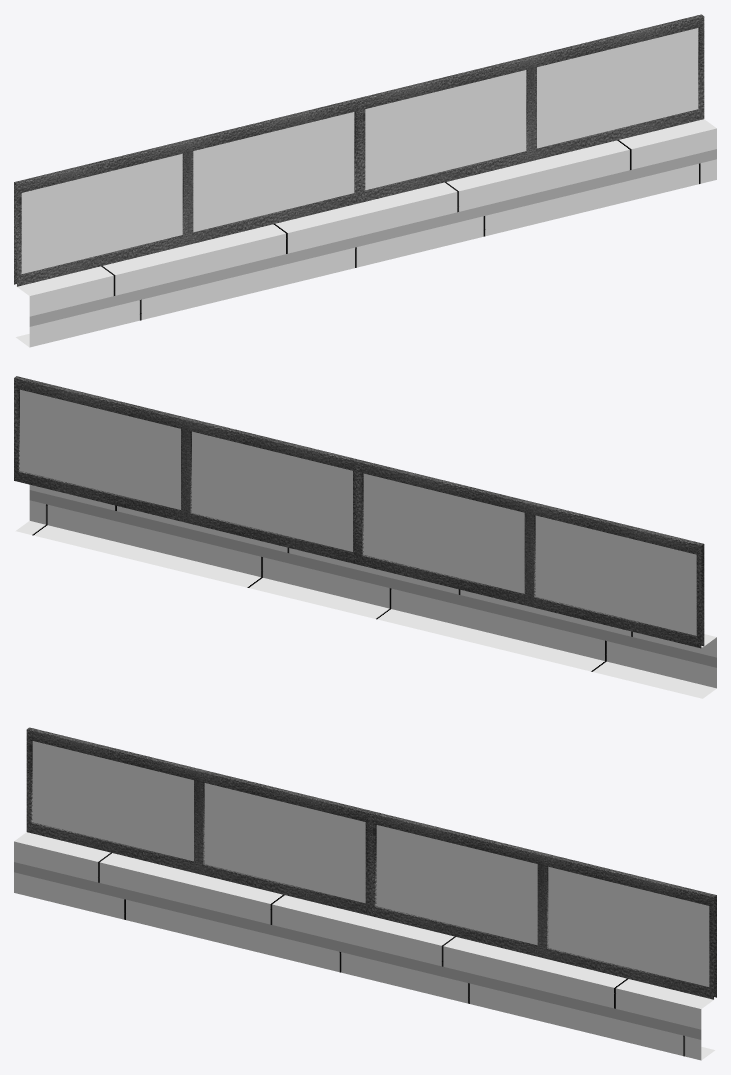
Rendered from Parapet02_700cm.FBX.
3 views of the same model, one above another, from view 1: azimuth 30°, elevation 25°; view 2: azimuth 150°, elevation 25°; view 3: azimuth 330°, elevation 25° (orthographic).
Visible parts, largest first — view 1: Parapet02_700cm; view 2: Parapet02_700cm; view 3: Parapet02_700cm.
Part boxes in pixels (box(x1,y1,x2,y2)): Parapet02_700cm: box(14, 14, 716, 347); Parapet02_700cm: box(14, 376, 716, 698); Parapet02_700cm: box(14, 727, 716, 1060).
Size of the model in its own units: 700 by 150 by 27.5.
